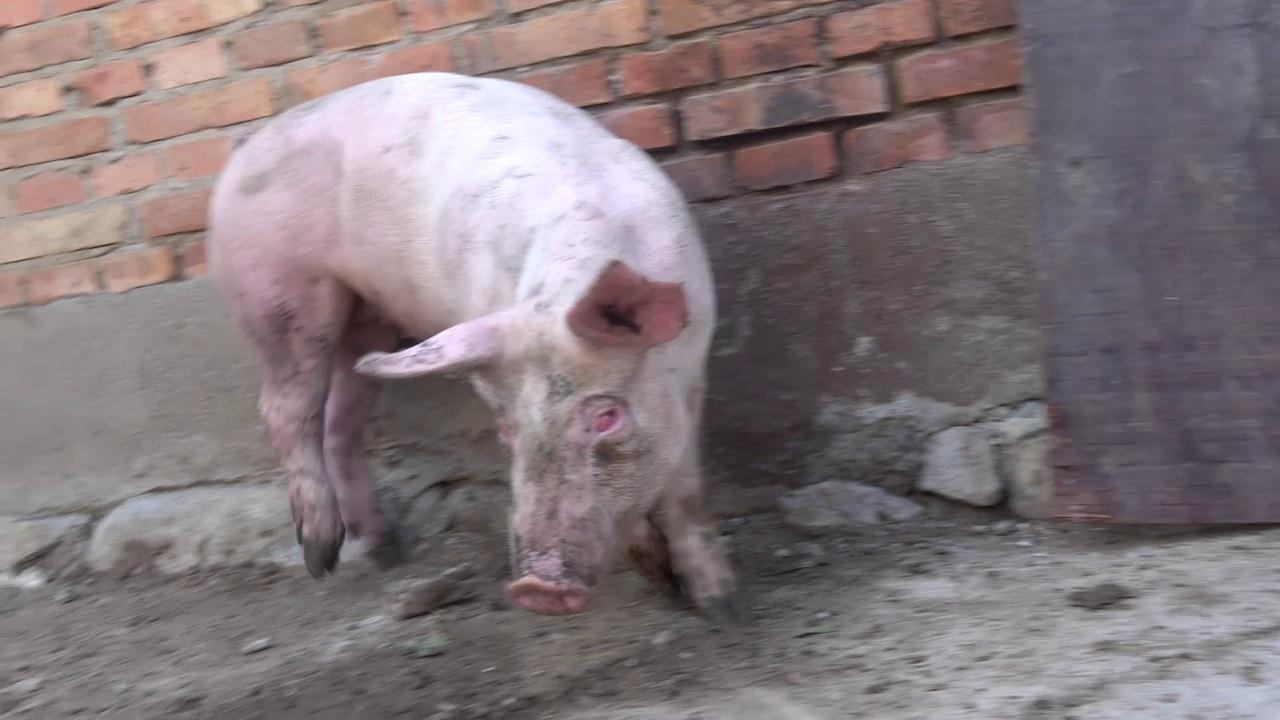Face: (352, 252, 700, 616)
